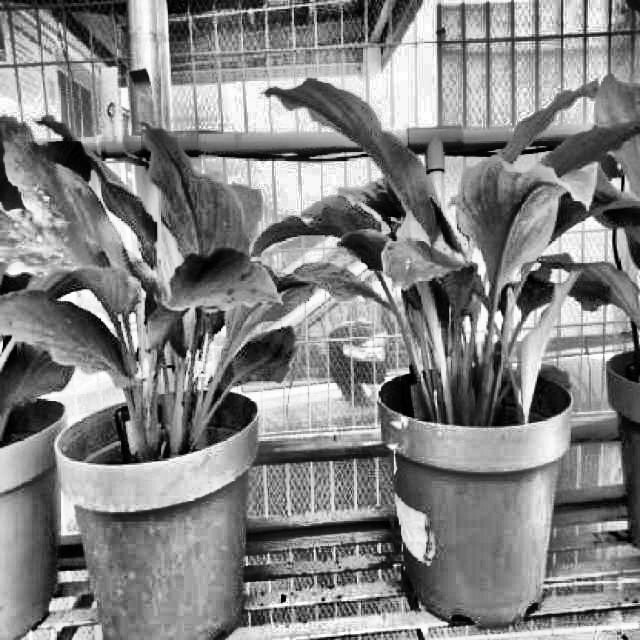plants: (246, 71, 620, 422), (0, 104, 325, 462)
